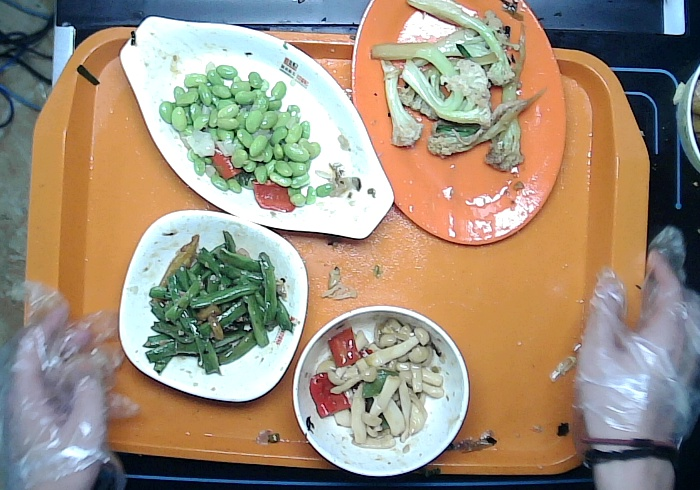NLDX-Bai_Se_Xiao_Fang_Die: (116, 207, 310, 405)
NLDX-Fan_Wan: (292, 304, 473, 477)
NLDX-Ju_Se_Pan: (347, 1, 568, 249)
NLDX-Yu_Pan: (116, 13, 397, 243)
